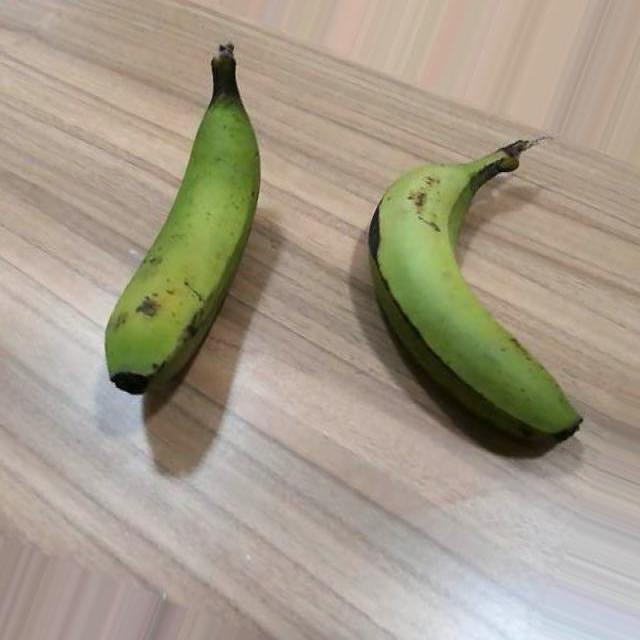Unripe: (368, 138, 585, 452), (104, 43, 261, 397)
